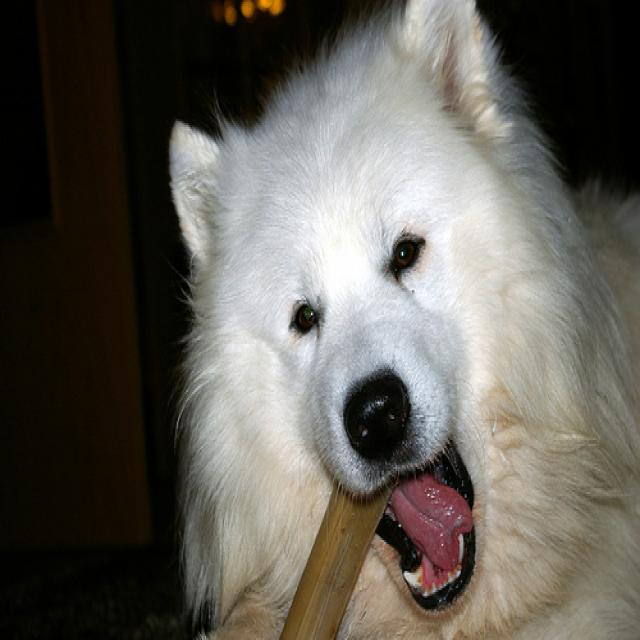dog-samoyed: (164, 2, 637, 636)
